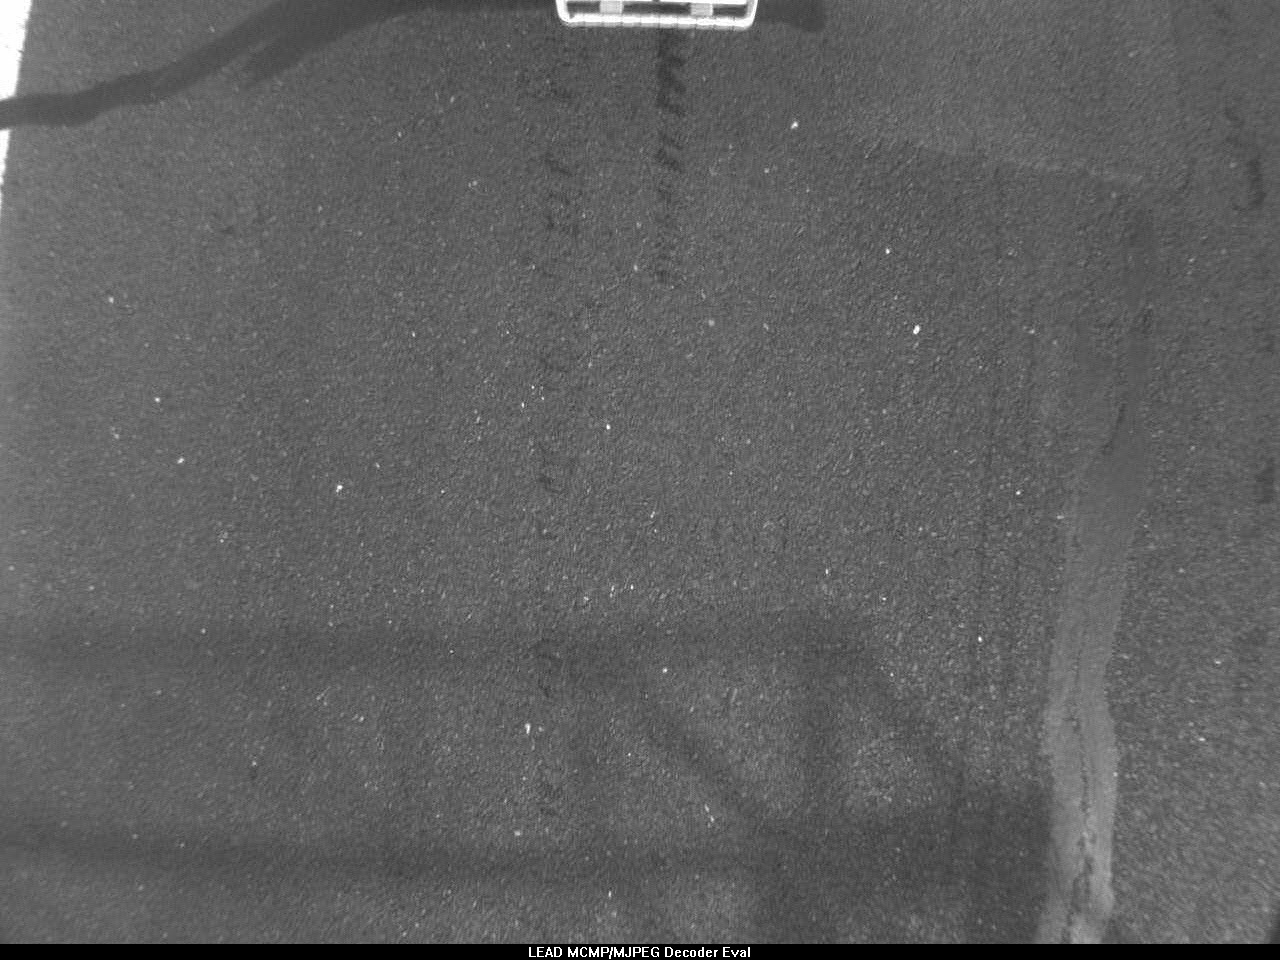sealed: (1031, 423, 1152, 940), (2, 4, 400, 128)
